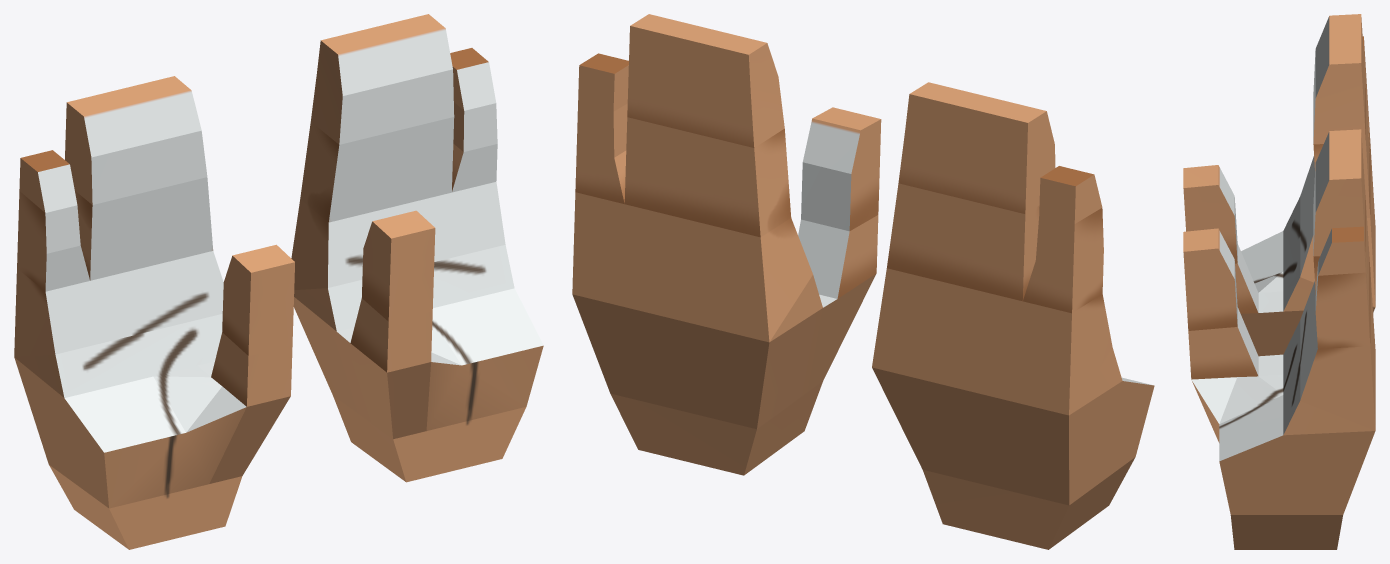
Rendered from Female Mitten Hand.glb.
The picture shows the model from 3 angles, left to right: view 1: azimuth 30°, elevation 25°; view 2: azimuth 150°, elevation 25°; view 3: azimuth 270°, elevation 25°; orthographic projection. The views are drawn at different scales.
Visible parts, largest first — view 1: Female_Right_Hand.001, Female_Left_Hand.001, Female_Left_Hand_Finger.002, Female_Right_Hand_Finger.002, Female_Left_Hand_Finger.001, Female_Right_Hand_Finger.001, Female_Right_Hand_Finger, Female_Left_Hand_Finger, Female_Left_Hand_Thumb, Female_Right_Hand_Thumb, Female_Right_Hand_Pinkry, Female_Right_Hand_Pinkry.001 (+4 smaller); view 2: Female_Left_Hand.001, Female_Right_Hand.001, Female_Left_Hand_Finger, Female_Left_Hand_Finger.002, Female_Right_Hand_Finger.002, Female_Right_Hand_Finger, Female_Left_Hand_Finger.001, Female_Right_Hand_Finger.001, Female_Left_Hand_Thumb, Female_Right_Hand_Pinkry, Female_Right_Hand_Pinkry.001, Female_Left_Hand_Pinkry (+3 smaller); view 3: Female_Left_Hand.001, Female_Right_Hand.001, Female_Right_Hand_Finger.002, Female_Left_Hand_Finger.002, Female_Left_Hand_Pinkry, Female_Left_Hand_Thumb, Female_Left_Hand_Pinkry.001, Female_Right_Hand_Thumb, Female_Left_Hand_Pinkry.002, Female_Right_Hand_Finger, Female_Left_Hand_Finger, Female_Right_Hand_Finger.001 (+2 smaller).
Part boxes in pixels (x1,y1,x2,y2): Female_Right_Hand.001: (14, 314, 292, 549); Female_Left_Hand.001: (293, 245, 543, 482); Female_Left_Hand_Finger.002: (311, 14, 454, 144); Female_Right_Hand_Finger.002: (65, 76, 207, 204); Female_Left_Hand_Finger.001: (300, 117, 454, 222); Female_Right_Hand_Finger.001: (75, 177, 213, 280); Female_Right_Hand_Finger: (90, 251, 223, 343); Female_Left_Hand_Finger: (291, 192, 460, 290); Female_Left_Hand_Thumb: (362, 210, 435, 321); Female_Right_Hand_Thumb: (222, 244, 294, 355); Female_Right_Hand_Pinkry: (14, 268, 99, 356); Female_Right_Hand_Pinkry.001: (17, 191, 89, 291); Female_Left_Hand.001: (572, 215, 878, 475); Female_Right_Hand.001: (872, 348, 1154, 549); Female_Left_Hand_Finger: (621, 204, 812, 342); Female_Left_Hand_Finger.002: (627, 14, 784, 147); Female_Right_Hand_Finger.002: (898, 82, 1055, 214); Female_Right_Hand_Finger: (872, 268, 1022, 403); Female_Left_Hand_Finger.001: (624, 117, 791, 237); Female_Right_Hand_Finger.001: (887, 183, 1039, 301); Female_Left_Hand_Thumb: (801, 107, 881, 231); Female_Right_Hand_Pinkry: (1019, 294, 1112, 415); Female_Right_Hand_Pinkry.001: (1023, 208, 1103, 313); Female_Left_Hand_Pinkry: (572, 192, 624, 306); Female_Left_Hand.001: (1188, 307, 1375, 549); Female_Right_Hand.001: (1235, 196, 1375, 356); Female_Right_Hand_Finger.002: (1313, 14, 1365, 144); Female_Left_Hand_Finger.002: (1313, 129, 1365, 256); Female_Left_Hand_Pinkry: (1300, 328, 1375, 430); Female_Left_Hand_Thumb: (1183, 228, 1237, 330); Female_Left_Hand_Pinkry.001: (1315, 258, 1370, 348); Female_Right_Hand_Thumb: (1183, 165, 1237, 263); Female_Left_Hand_Pinkry.002: (1318, 226, 1365, 275); Female_Right_Hand_Finger: (1300, 164, 1375, 306); Female_Left_Hand_Finger: (1300, 272, 1375, 409); Female_Right_Hand_Finger.001: (1313, 93, 1370, 217).
Bounding box in the file's own units: 0.3324 × 0.2789 × 0.1315.
Materials: 1 (1 with a texture image).
